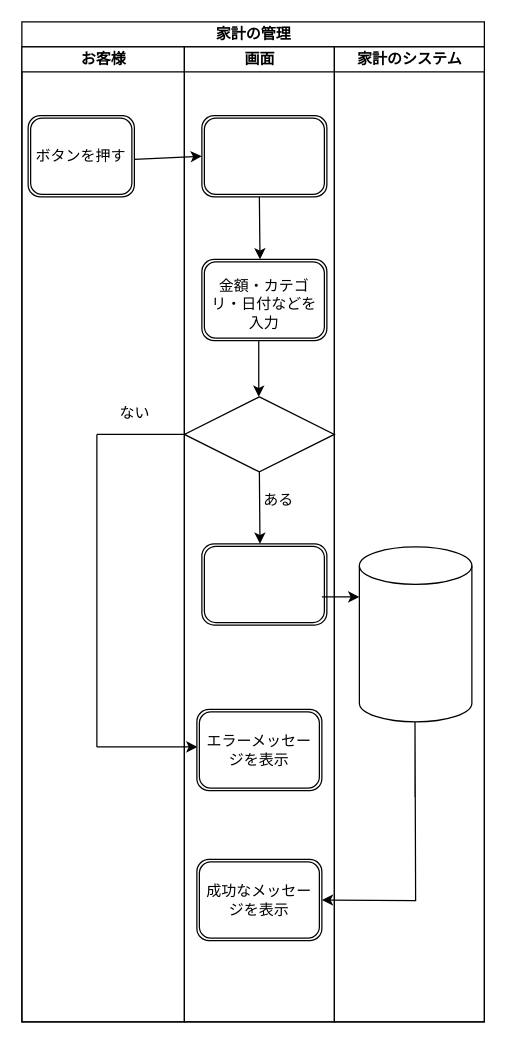
The diagram is 506 pixels wide and 1044 high, and some of its shapes have lost their labels. The centre of each missing label's shape, as x and y in pixels:
システムに情報を送る: (264,583)
チェックを押す: (258,434)
家計のDBを保存: (415,634)
支出入力画面を表示: (264,155)
